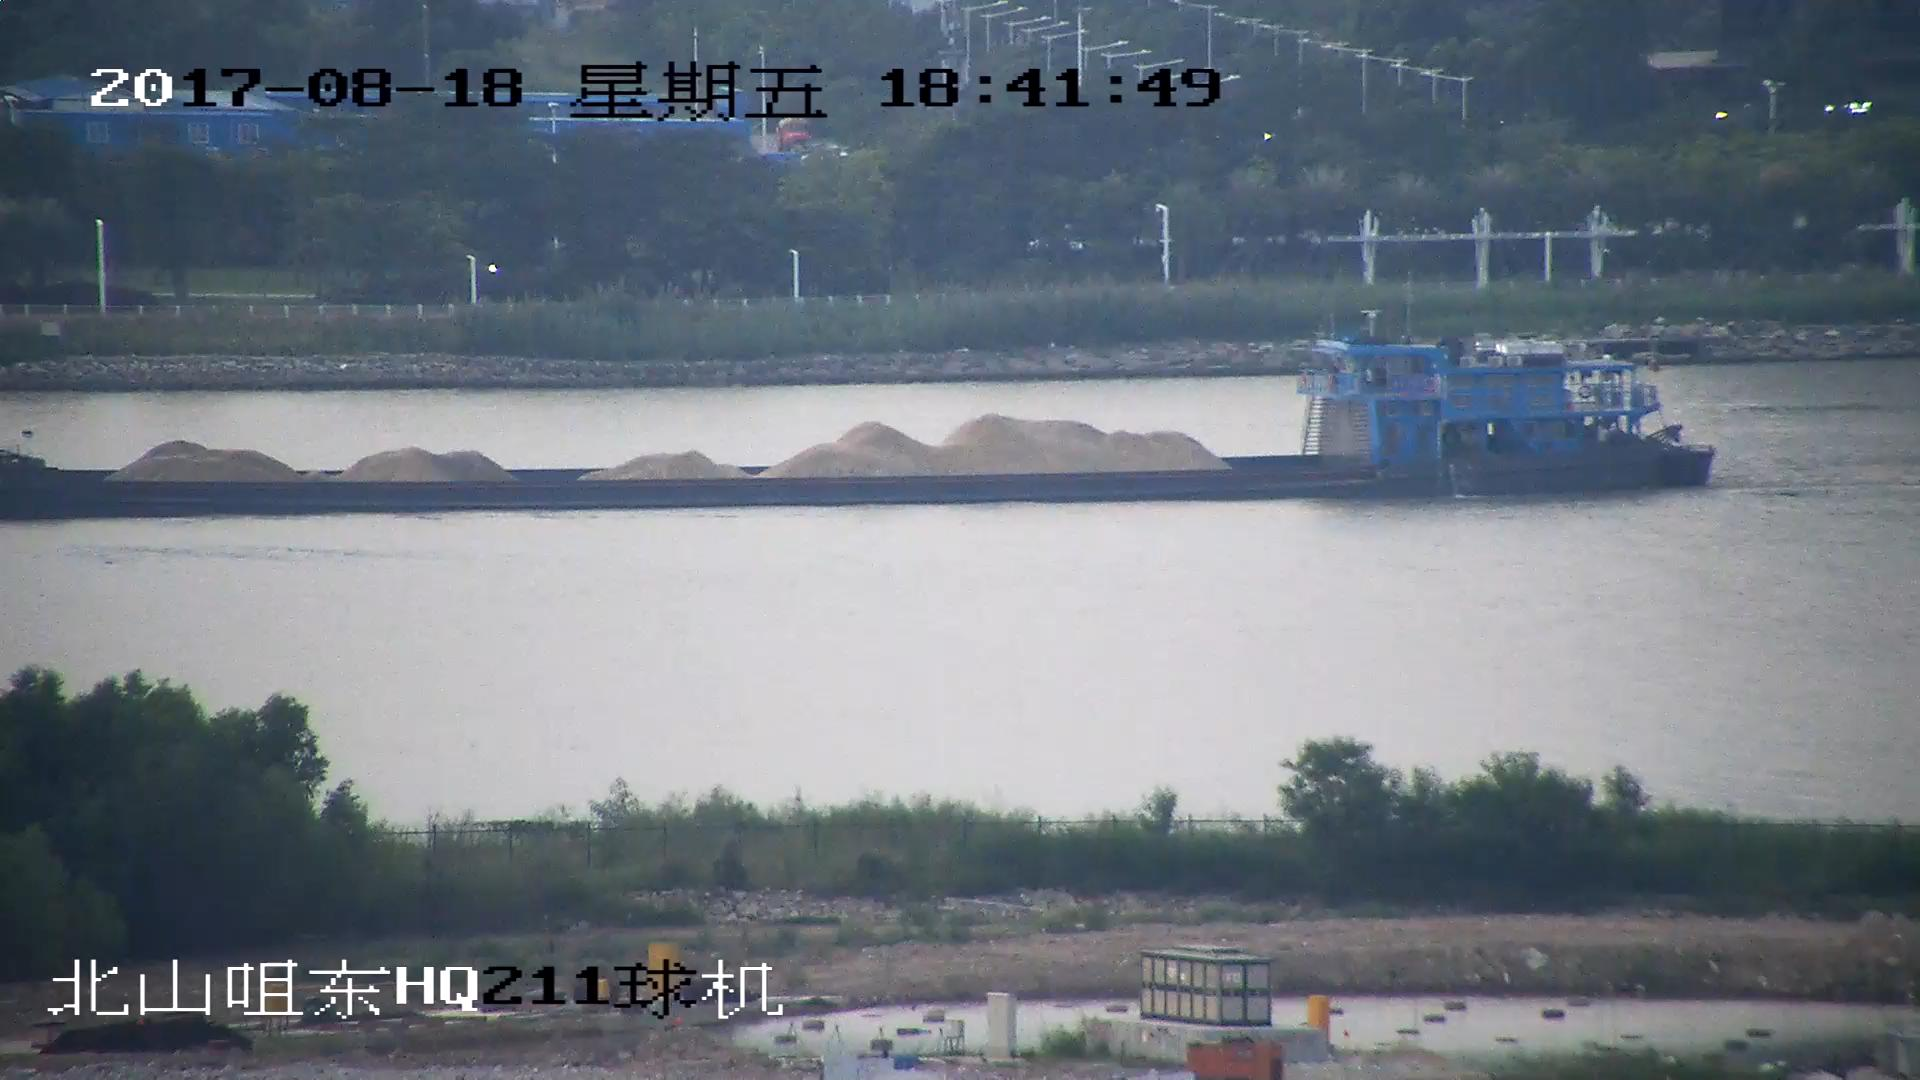ore carrier: (1, 336, 1722, 519)
